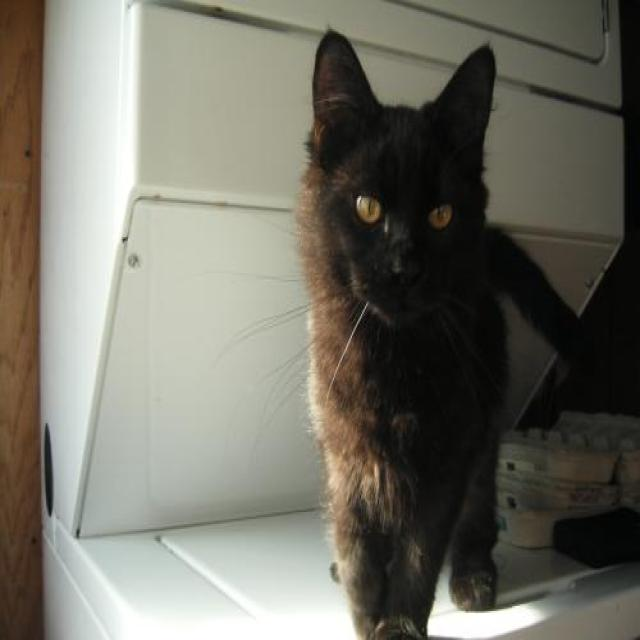Cats: (218, 26, 592, 638)
